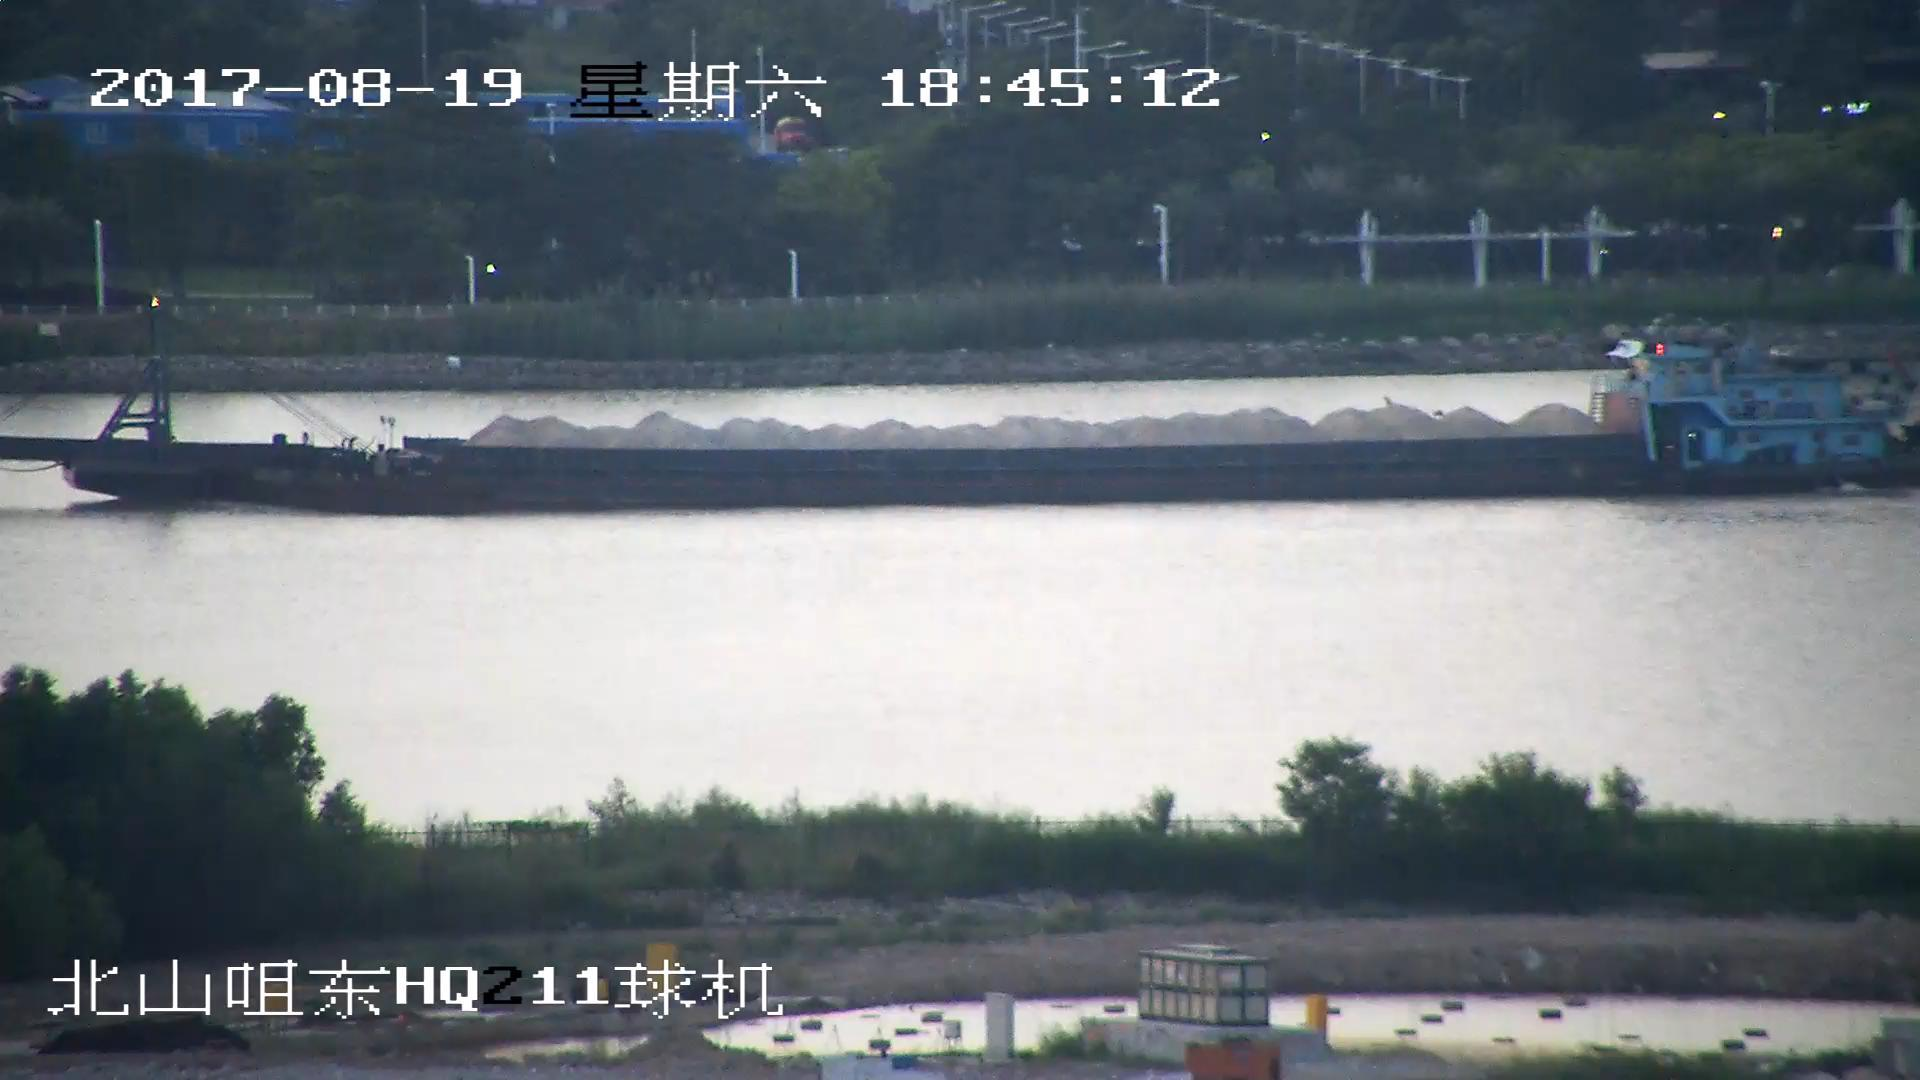Ship: (3, 298, 1920, 521)
